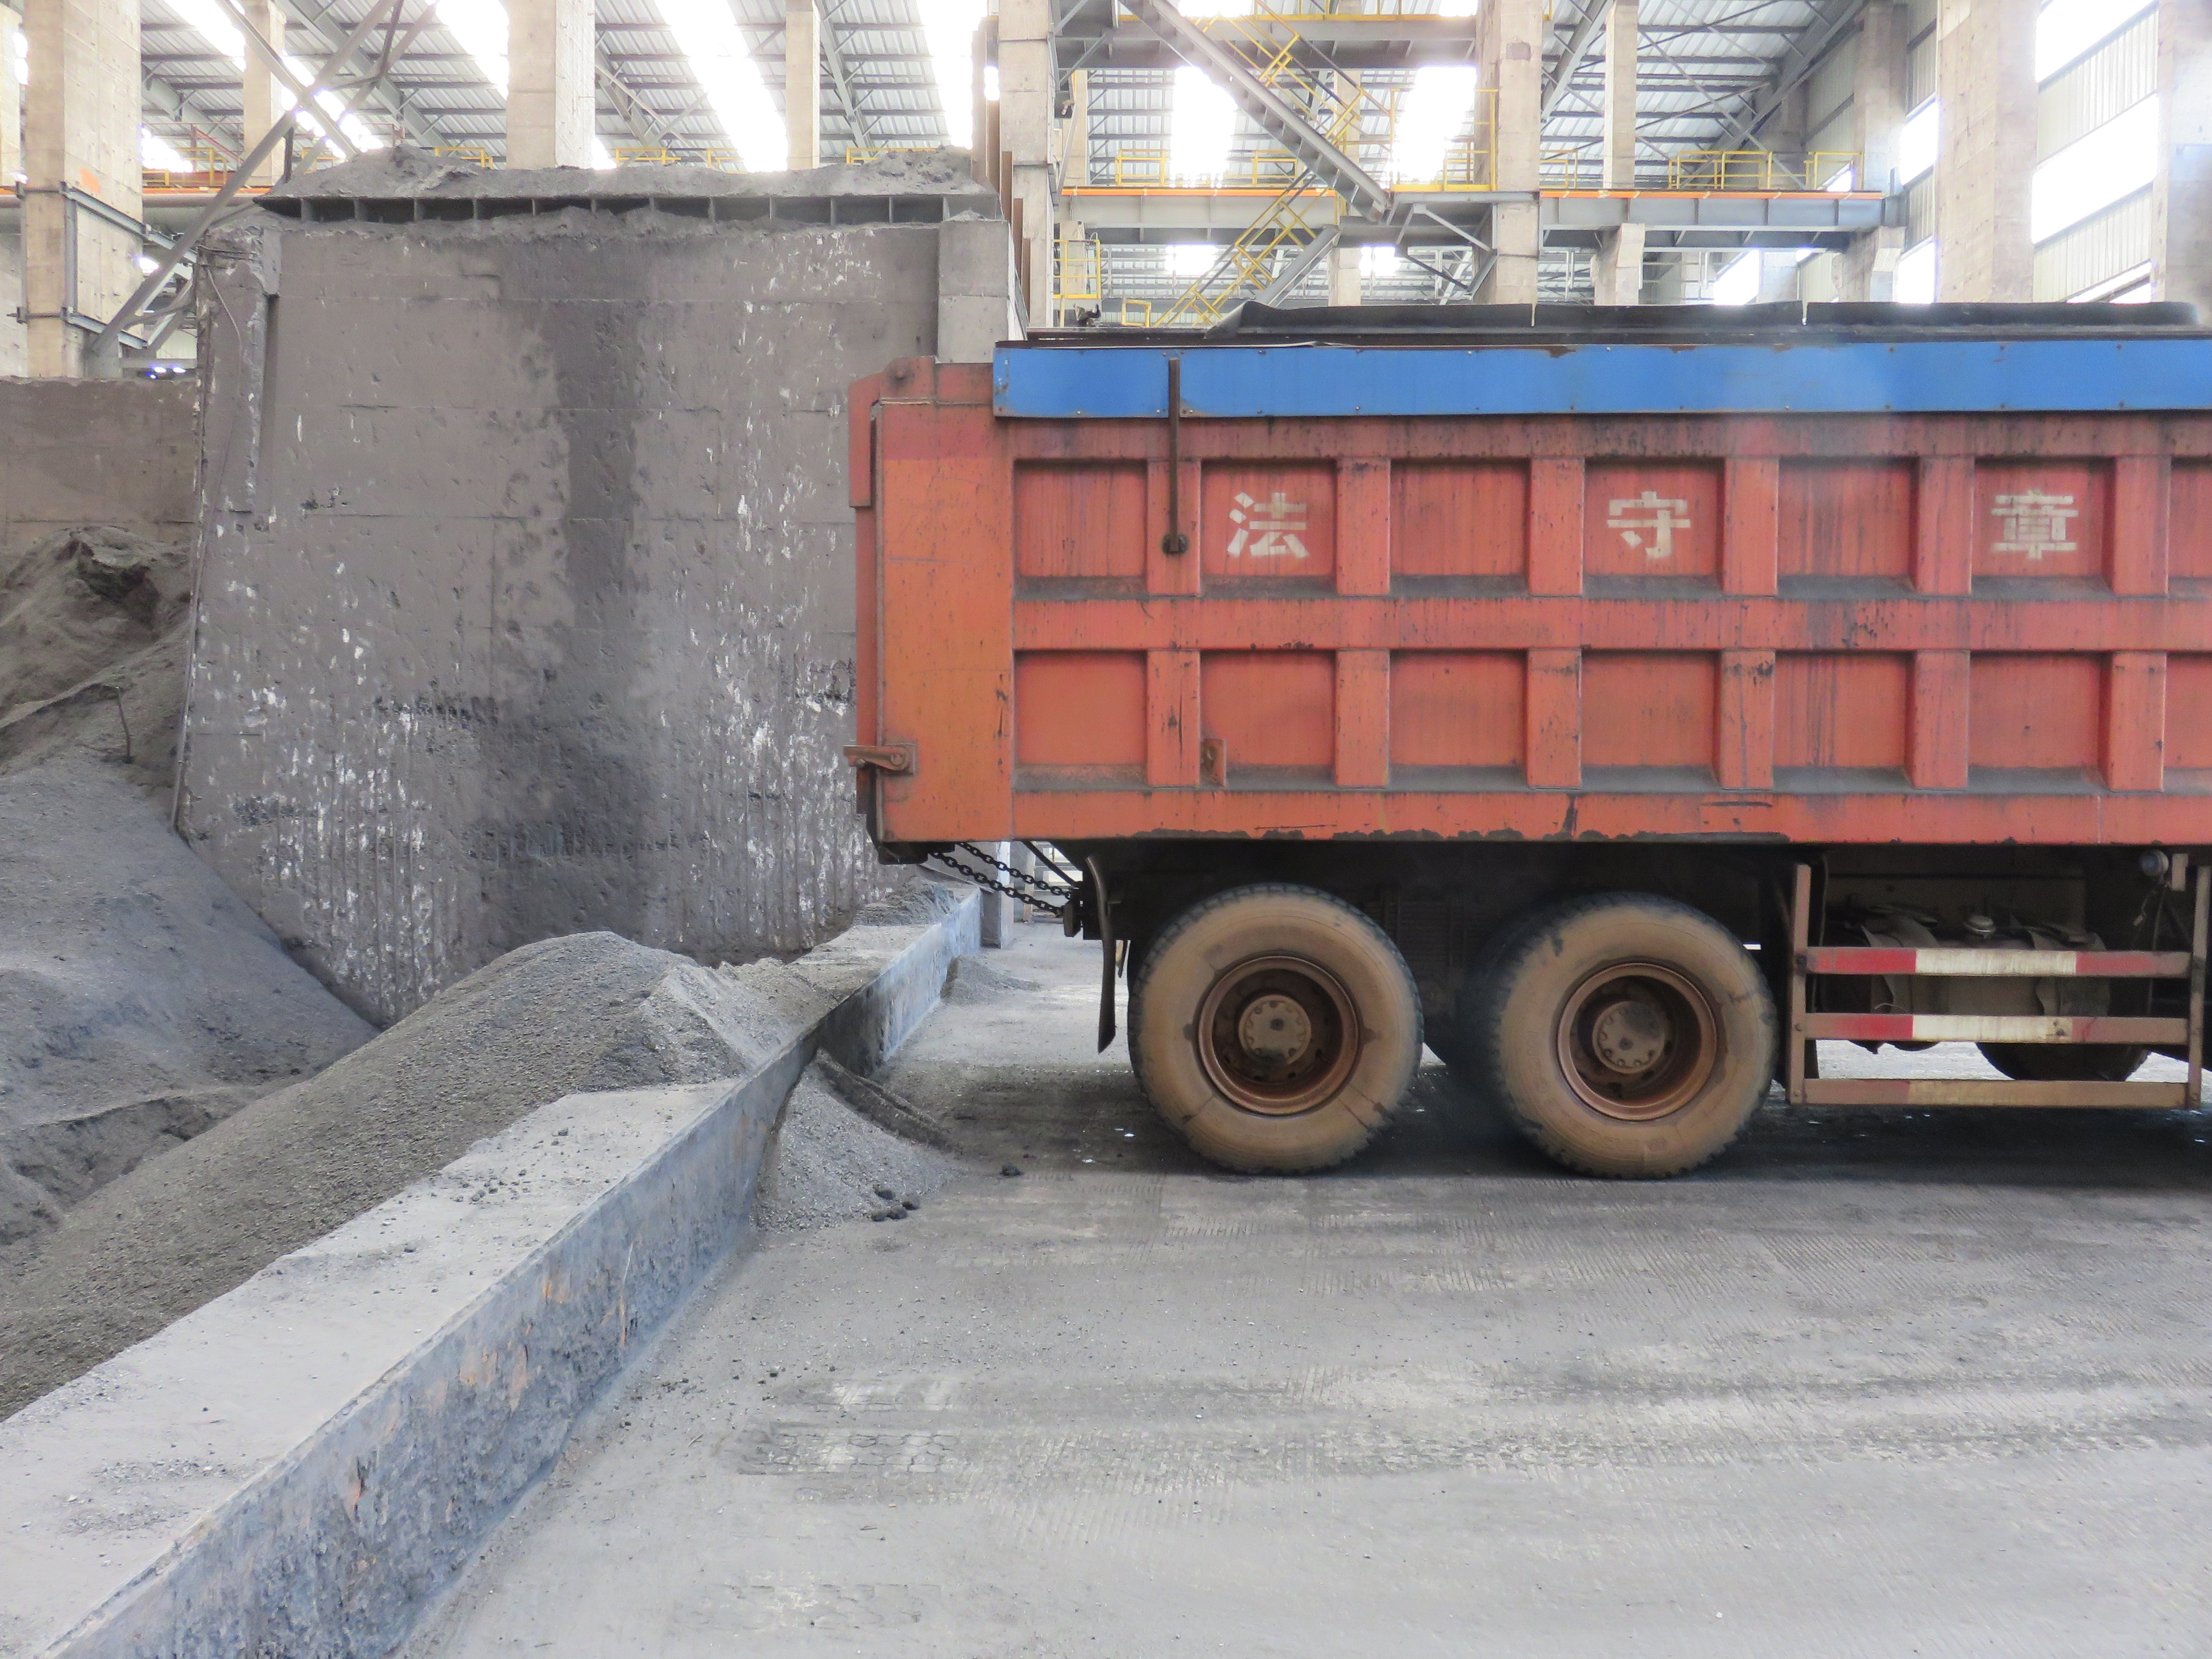truck: (831, 270, 2212, 1183)
